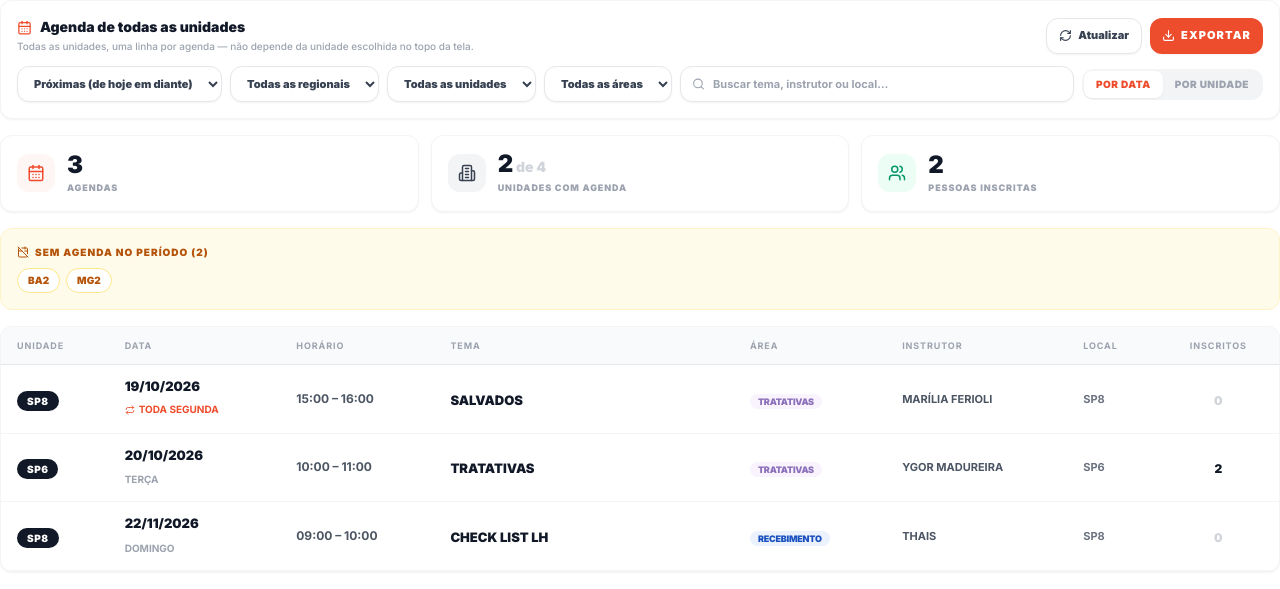
Scenario: AgendaGeral › filtrar por regional restringe as unidades olhadas e a lista
Select "REGIONAL 1" in the dropdown named "Regional" at {"x": 304, "y": 84}, box x1=230 y1=66 x2=379 y2=102
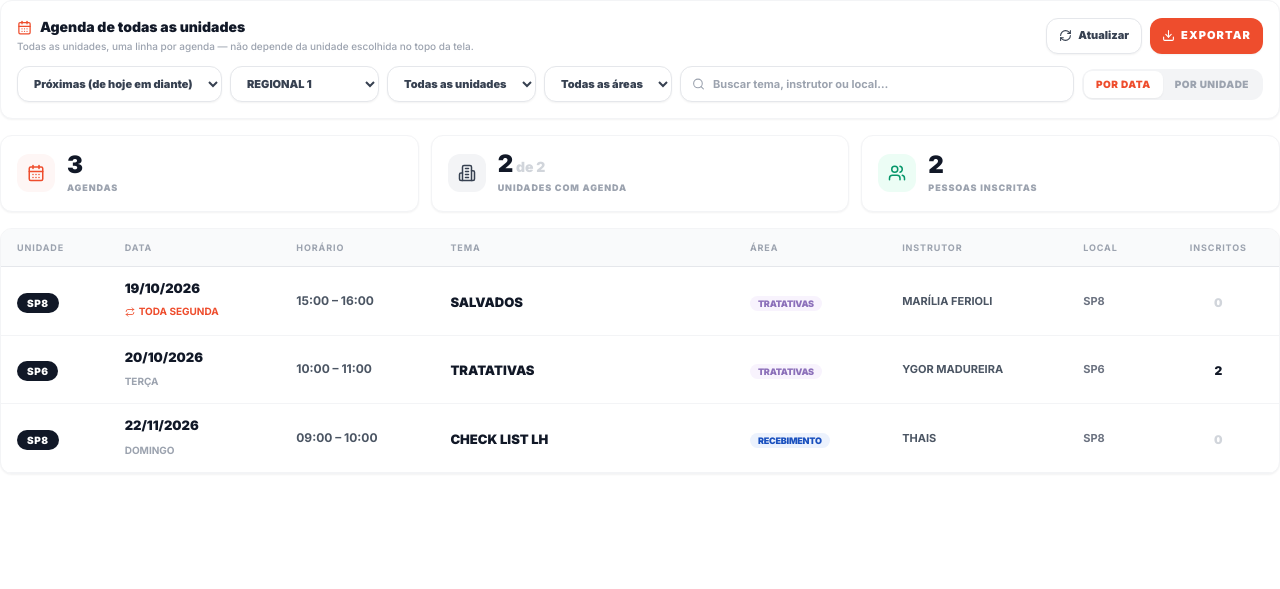
Check: the text "Sem agenda no período" is gone
Check: the text "de 2" is shown, box x1=513 y1=158 x2=545 y2=175
